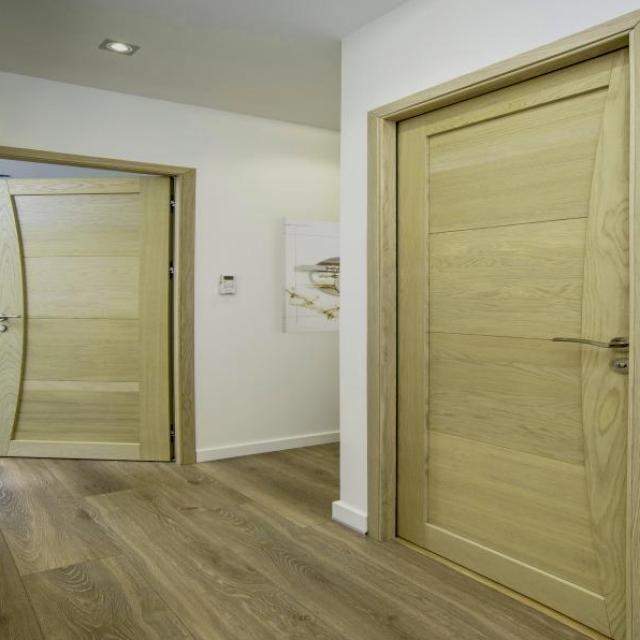door: (374, 18, 637, 638), (0, 171, 174, 461)
